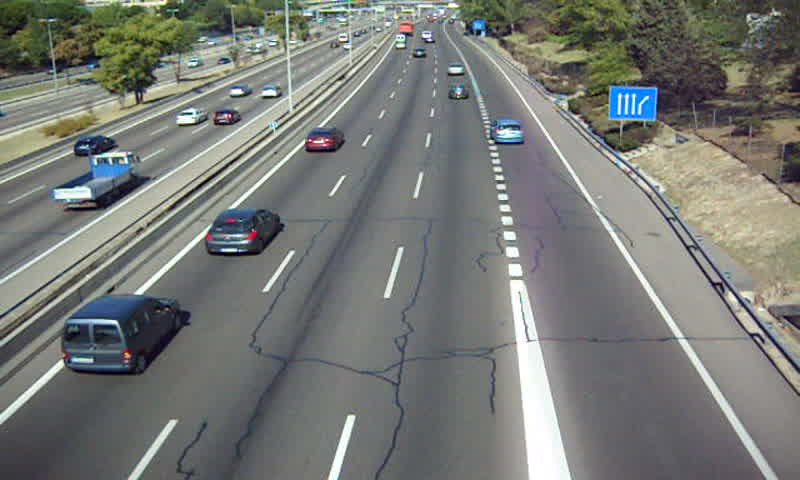car: (204, 208, 281, 254), (303, 128, 344, 152), (490, 118, 524, 143), (446, 82, 469, 98), (446, 62, 465, 73)
van: (61, 295, 181, 374)
